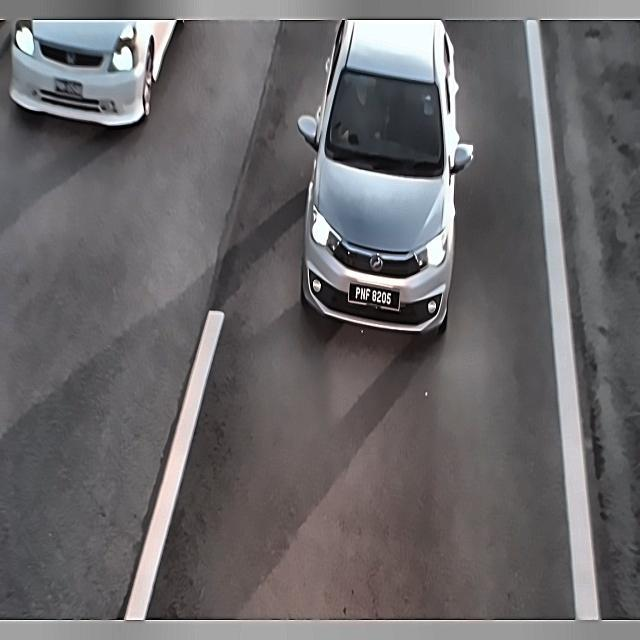car: (347, 278, 402, 318), (46, 72, 87, 104)
